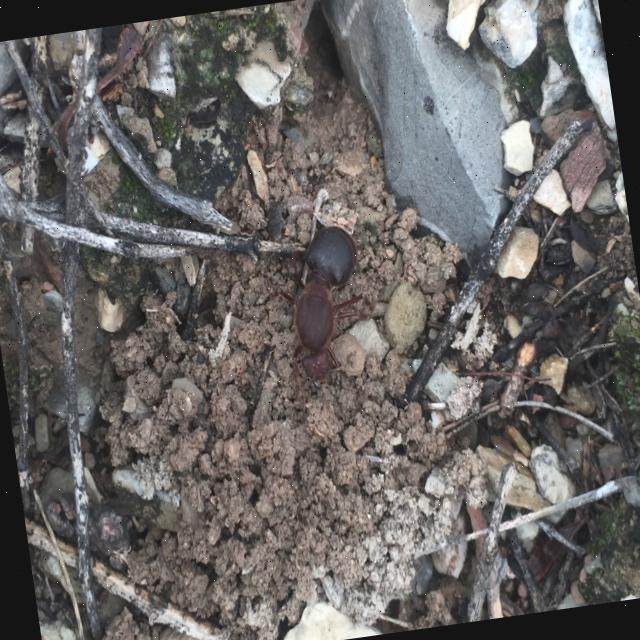Alive-Female-Dealate: (258, 222, 386, 402)
